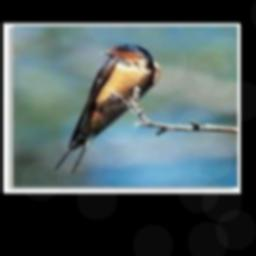Swallow: (53, 43, 160, 173)
